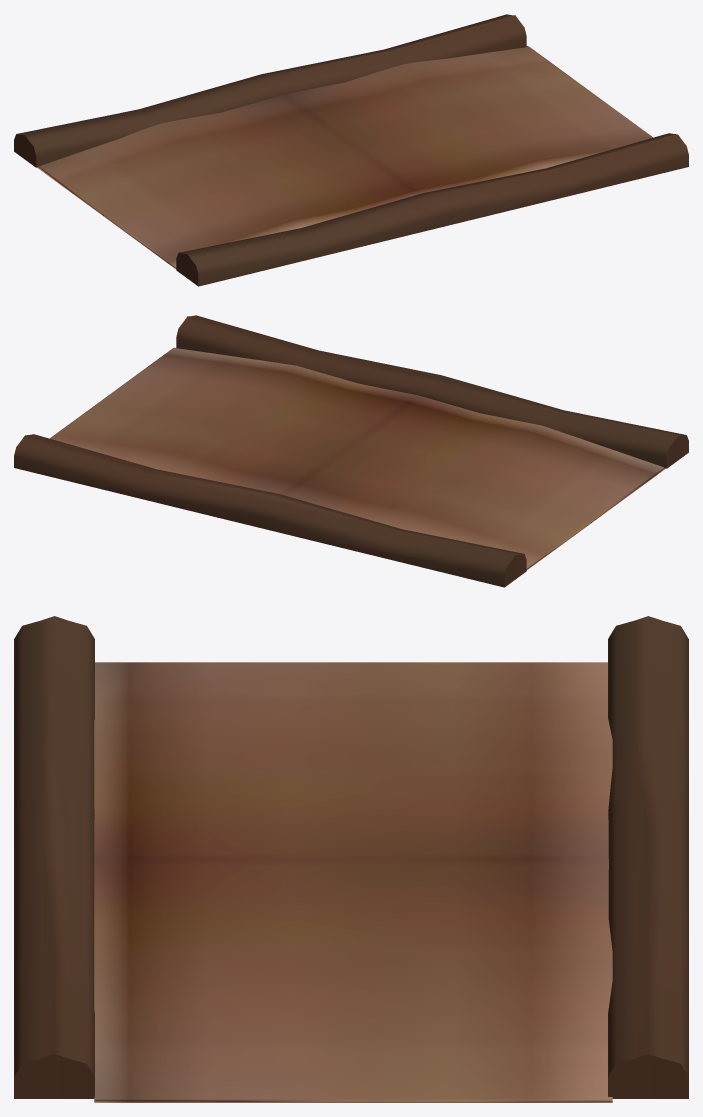
File: DirtBikeTrackWithBarriers.glb
3 renders of one model, top to bottom at view 1: azimuth 30°, elevation 25°; view 2: azimuth 150°, elevation 25°; view 3: azimuth 270°, elevation 25°, orthographic. The views are drawn at different scales.
Visible parts, largest first — view 1: DirtBikeTrackWithBarriers; view 2: DirtBikeTrackWithBarriers; view 3: DirtBikeTrackWithBarriers.
Part boxes in pixels (x1=…): DirtBikeTrackWithBarriers: x1=14, y1=14, x2=688, y2=286; DirtBikeTrackWithBarriers: x1=14, y1=315, x2=688, y2=587; DirtBikeTrackWithBarriers: x1=14, y1=616, x2=688, y2=1102.
Bounding box in the file's own units: 8.06 × 0.3879 × 5.21.
Materials: 1 (1 with a texture image).
